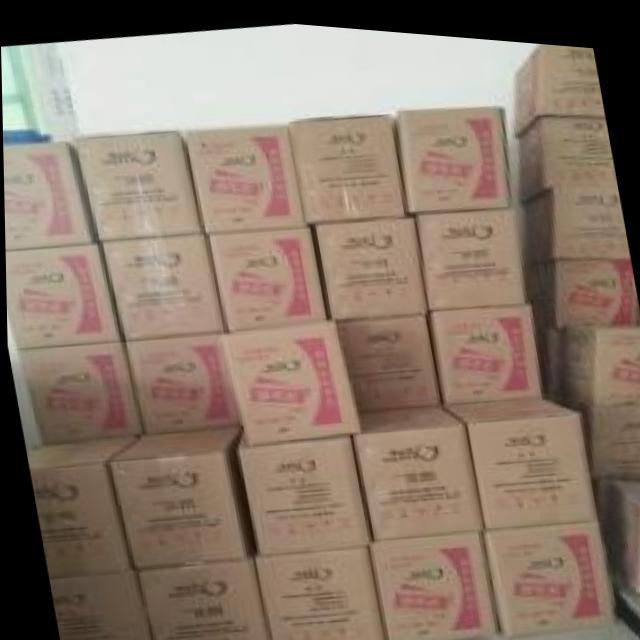box: (106, 424, 250, 569), (439, 387, 593, 520), (351, 399, 481, 535), (555, 315, 640, 520), (26, 432, 141, 579), (220, 316, 356, 439), (481, 512, 617, 629), (235, 431, 370, 548), (369, 521, 500, 640), (184, 119, 312, 233), (12, 338, 146, 443), (96, 230, 225, 338), (252, 538, 388, 640), (75, 129, 203, 237), (288, 107, 404, 221), (389, 99, 510, 207), (4, 241, 124, 348), (309, 209, 427, 316), (211, 221, 331, 326), (122, 327, 239, 433), (425, 293, 543, 397), (415, 197, 527, 301), (130, 557, 268, 640), (332, 309, 437, 407), (3, 142, 96, 249), (509, 35, 606, 130), (518, 177, 630, 257), (518, 108, 617, 193), (526, 249, 636, 321), (47, 569, 151, 640), (605, 469, 640, 580), (534, 316, 565, 388)
